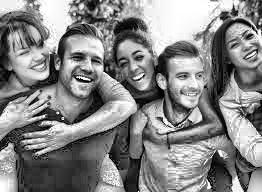happy: (6, 26, 50, 83)
